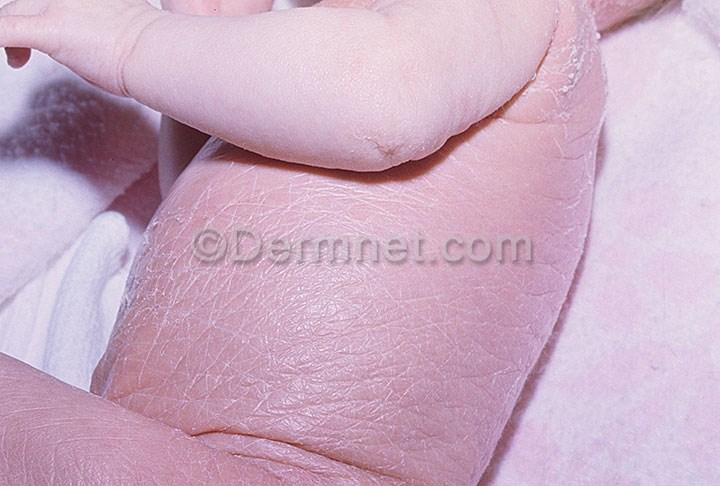liquenificacion 1: (0, 8, 609, 485)
xerosis 2: (94, 199, 216, 381), (528, 17, 598, 127)
